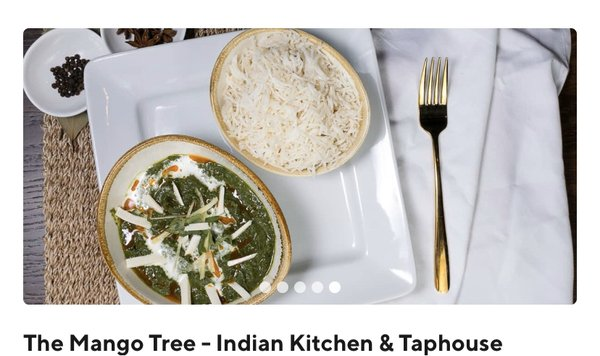burger: (417, 55, 451, 290)
sushi: (95, 134, 292, 306), (209, 29, 372, 178), (24, 29, 112, 119)
